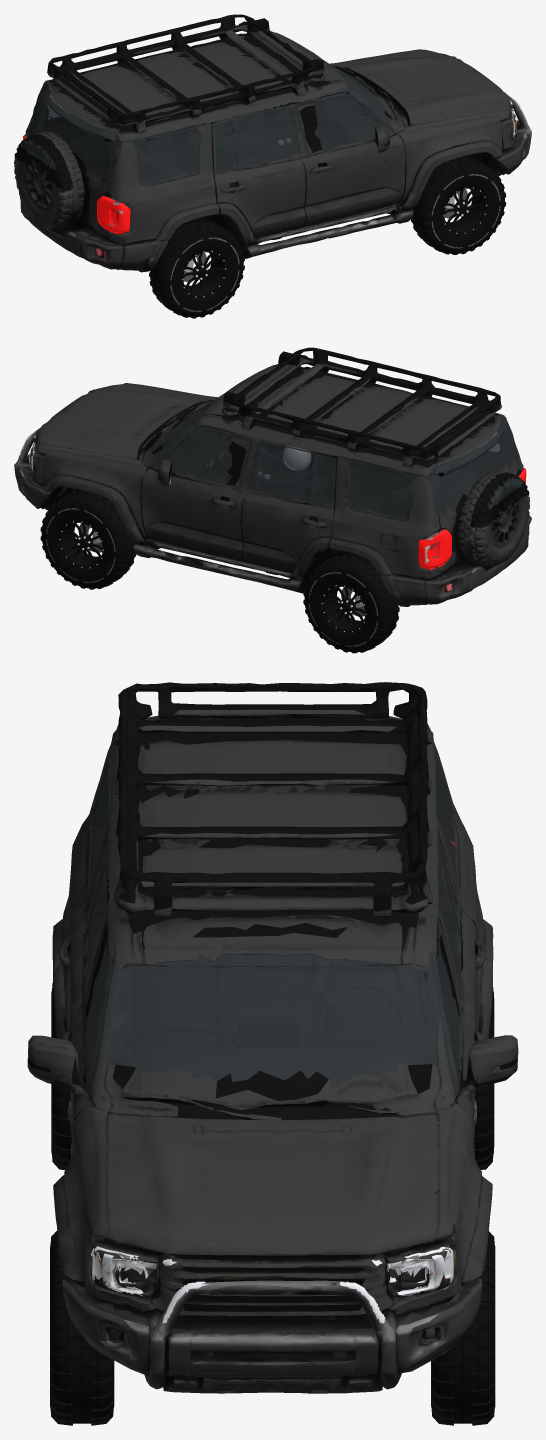
File: rb_ridgeback.glb
3 renders of one model, top to bottom at view 1: azimuth 30°, elevation 25°; view 2: azimuth 150°, elevation 25°; view 3: azimuth 270°, elevation 25°, orthographic. The views are drawn at different scales.
Visible parts, largest first — view 1: body, glass, tyre_RR, interior, tyre_FR, window_R, rim_RR, rim_FR, taillight_lens, driver; view 2: body, glass, tyre_RL, tyre_FL, interior, window_L, driver, rim_RL, rim_FL, taillight_lens; view 3: body, glass, interior, tyre_FL, tyre_FR, driver, headlight_lens, window_R, window_L, steering_wheel, tyre_RL, tyre_RR.
Part boxes in pixels (<box>): body: <box>14,14,531,272</box>; glass: <box>21,44,386,184</box>; tyre_RR: <box>149,219,244,318</box>; interior: <box>116,97,370,184</box>; tyre_FR: <box>410,156,506,254</box>; window_R: <box>311,87,393,148</box>; rim_RR: <box>182,250,225,297</box>; rim_FR: <box>443,187,487,233</box>; taillight_lens: <box>23,135,130,234</box>; driver: <box>220,115,271,147</box>; body: <box>14,347,531,606</box>; glass: <box>161,372,523,521</box>; tyre_RL: <box>303,554,399,653</box>; tyre_FL: <box>40,490,136,589</box>; interior: <box>176,432,432,521</box>; window_L: <box>154,421,232,484</box>; driver: <box>248,446,321,500</box>; rim_RL: <box>322,585,366,632</box>; rim_FL: <box>59,521,103,568</box>; taillight_lens: <box>418,468,526,570</box>; body: <box>27,682,518,1393</box>; glass: <box>85,748,460,1081</box>; interior: <box>107,954,438,1081</box>; tyre_FL: <box>431,1231,495,1425</box>; tyre_FR: <box>50,1230,114,1425</box>; driver: <box>309,957,415,1034</box>; headlight_lens: <box>91,1246,453,1323</box>; window_R: <box>71,923,120,1089</box>; window_L: <box>425,921,472,1088</box>; steering_wheel: <box>317,982,407,1036</box>; tyre_RL: <box>474,986,494,1169</box>; tyre_RR: <box>51,983,71,1169</box>.
Bounding box in the file's own units: 4.8 × 2.05 × 2.19.
10 materials, 7 textured.
